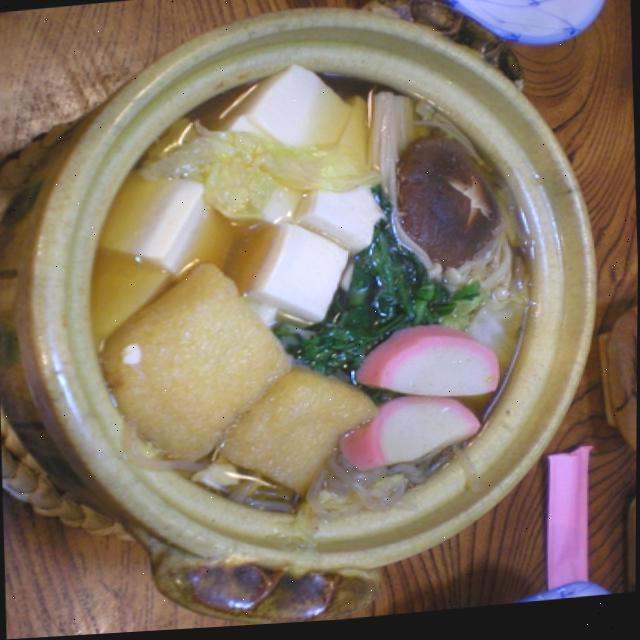豆腐料理: (28, 0, 618, 590)
